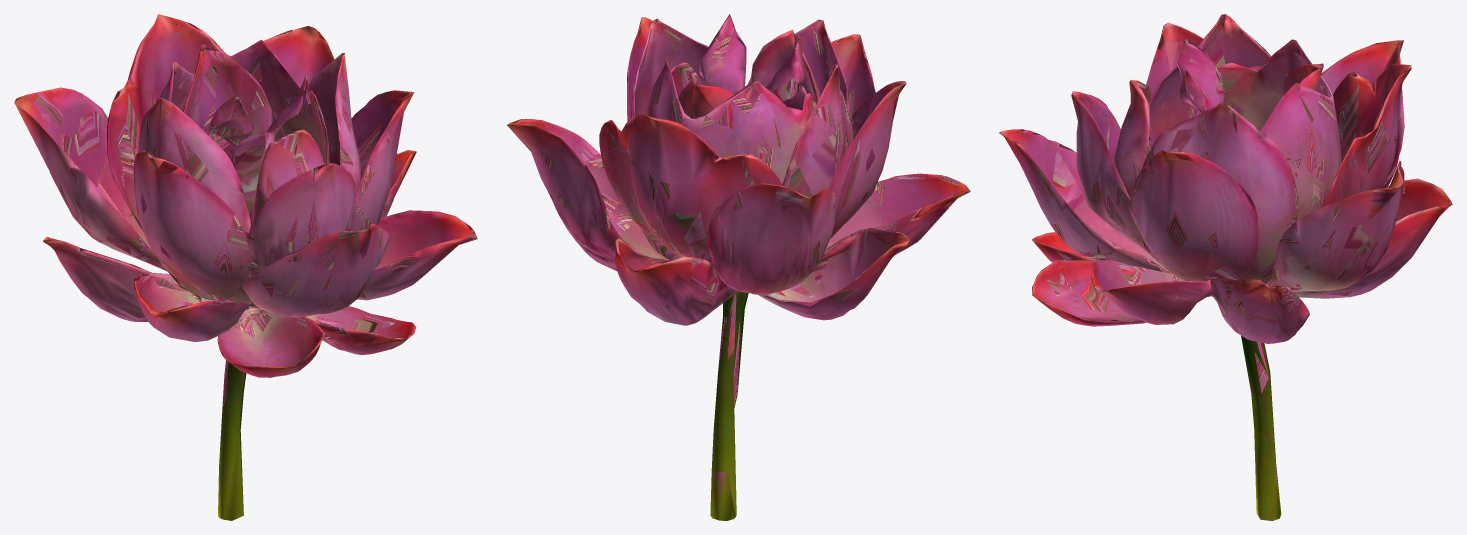
Rendered from lotus.glb.
3 views of the same model, side by side, from view 1: azimuth 30°, elevation 25°; view 2: azimuth 150°, elevation 25°; view 3: azimuth 270°, elevation 25° (orthographic).
Bounding box in the file's own units: 1.6 × 1.89 × 1.68.
1 material, 1 textured.
